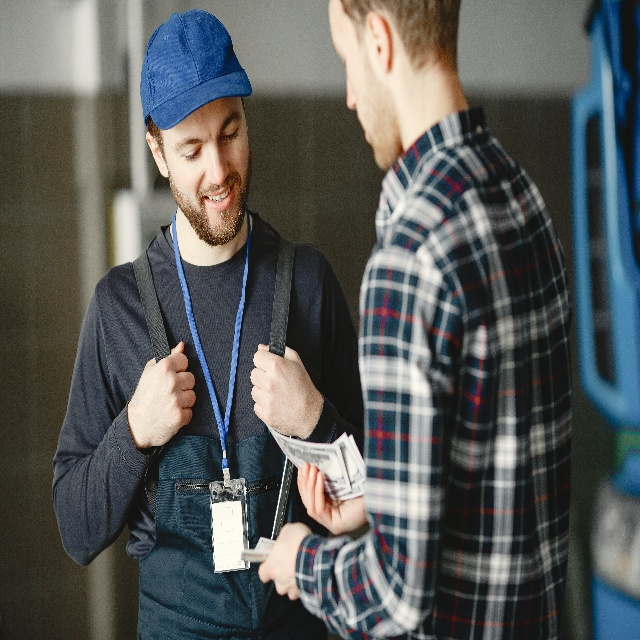Sin_guantes: (132, 342, 196, 447), (250, 340, 309, 439), (296, 462, 367, 533), (258, 517, 312, 601)
